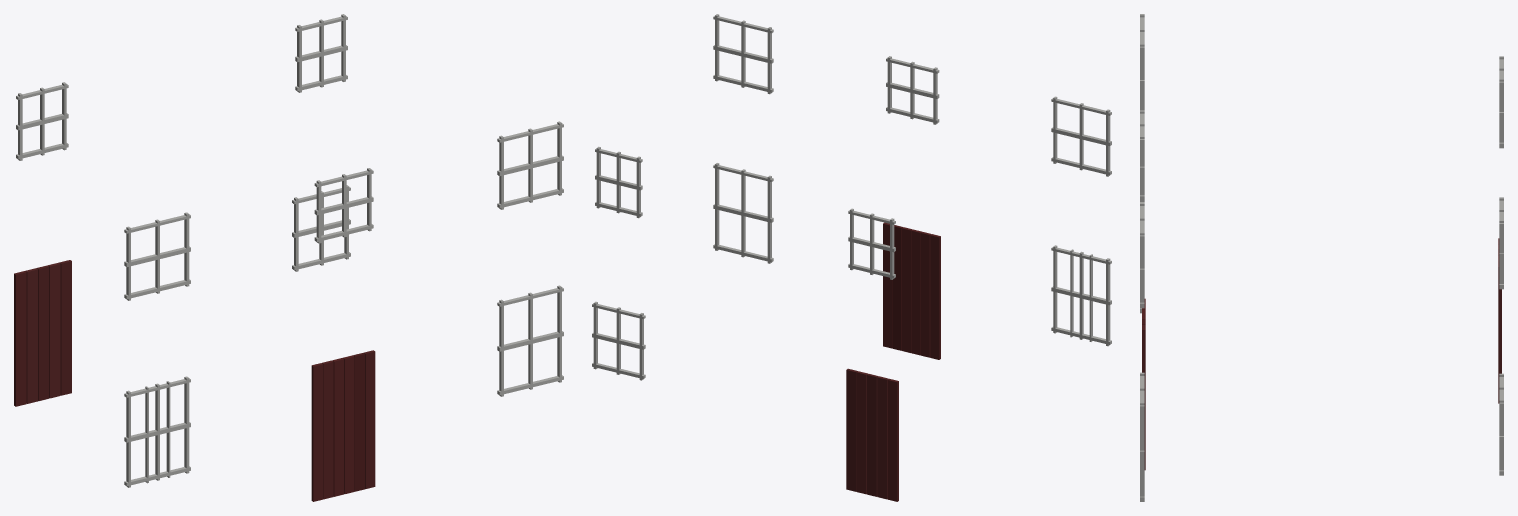
Rendered from SM_Bld_055_Wood.glb.
The picture shows the model from 3 angles, left to right: view 1: azimuth 30°, elevation 25°; view 2: azimuth 150°, elevation 25°; view 3: azimuth 270°, elevation 25°; orthographic projection. The views are drawn at different scales.
Parts seen in each view (by area): view 1: SM_Bld_055_Wood; view 2: SM_Bld_055_Wood; view 3: SM_Bld_055_Wood.
Part boxes in pixels (box(x1,y1,x2,y2)): SM_Bld_055_Wood: box(14, 14, 563, 501); SM_Bld_055_Wood: box(592, 14, 1111, 501); SM_Bld_055_Wood: box(1140, 14, 1503, 501).
Size of the model in its own units: 6.93 by 4.84 by 4.82.
